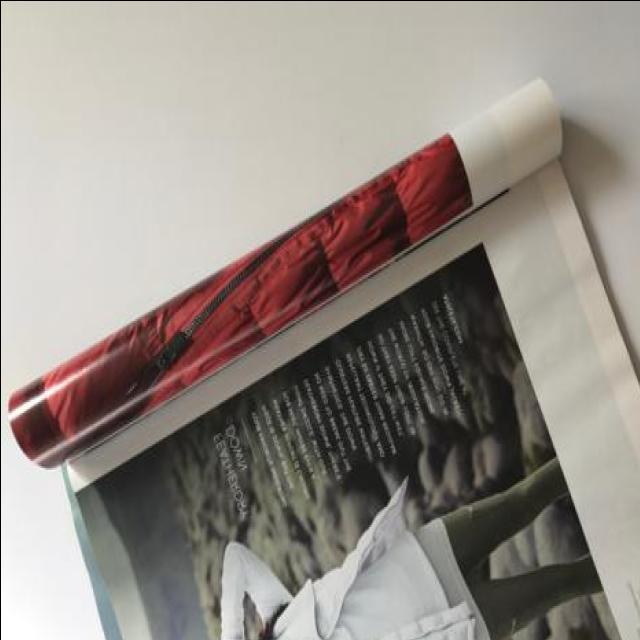kertas: (2, 76, 640, 640)
